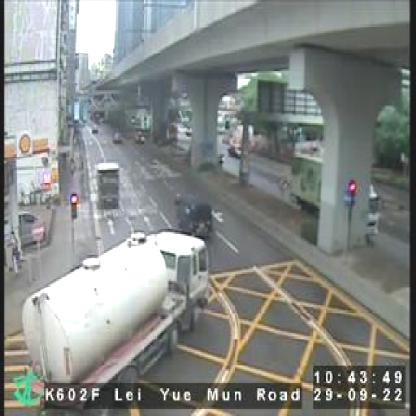Car: (173, 189, 216, 236), (112, 128, 122, 146)
Truck: (18, 227, 204, 409), (92, 153, 120, 213)
